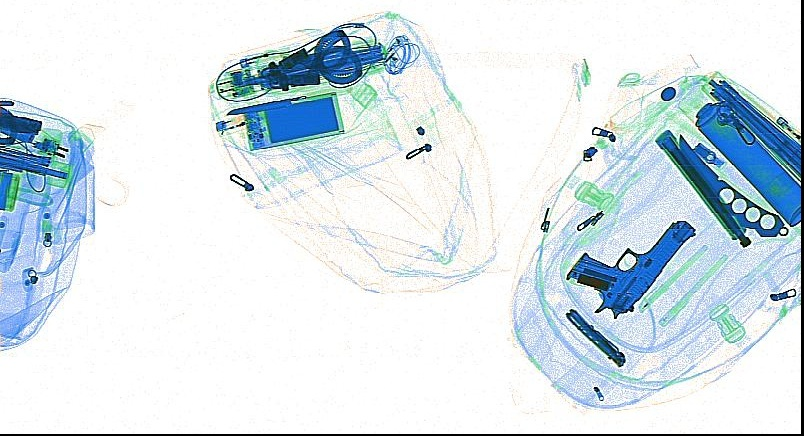handcuffs: (266, 26, 362, 89)
knife: (677, 131, 788, 237), (564, 307, 626, 368), (225, 87, 352, 116), (1, 110, 42, 135)
lighter: (238, 45, 291, 70), (214, 109, 257, 131), (774, 114, 799, 143)
pressure: (693, 100, 799, 229)
